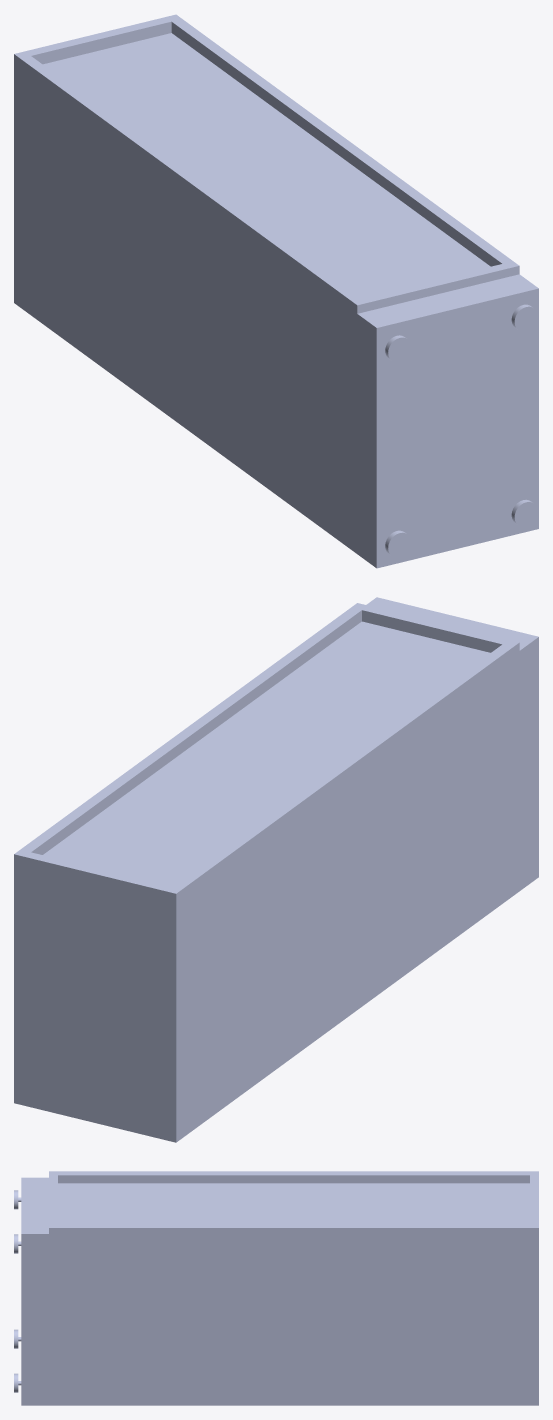
File: Pantry_y.fbx
3 renders of one model, top to bottom at view 1: azimuth 30°, elevation 25°; view 2: azimuth 150°, elevation 25°; view 3: azimuth 270°, elevation 25°, orthographic. The views are drawn at different scales.
Parts seen in each view (by area): view 1: Body_1; view 2: Body_1; view 3: Body_1.
Part boxes in pixels (x1,y1,x2,y2): Body_1: (14,14,538,568); Body_1: (14,597,538,1142); Body_1: (14,1171,538,1405).
Size of the model in its own units: 0.381 by 1.5 by 0.5588.
